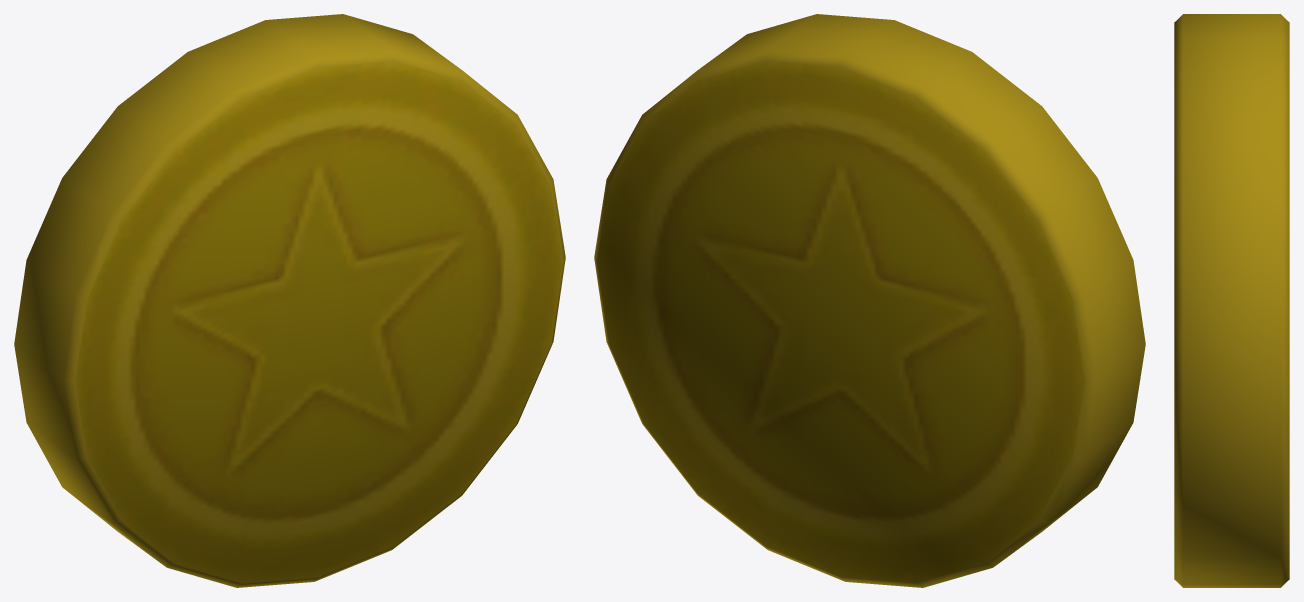
Rendered from coin.glb.
3 views of the same model, side by side, from view 1: azimuth 30°, elevation 25°; view 2: azimuth 150°, elevation 25°; view 3: azimuth 270°, elevation 25° (orthographic).
Parts seen in each view (by area): view 1: DL_ItemBell__m_DL_ItemBell.001; view 2: DL_ItemBell__m_DL_ItemBell.001; view 3: DL_ItemBell__m_DL_ItemBell.001.
Boxes of the visible parts, x1,y1,x2,y2 form: DL_ItemBell__m_DL_ItemBell.001: [14, 14, 565, 587]; DL_ItemBell__m_DL_ItemBell.001: [594, 14, 1145, 587]; DL_ItemBell__m_DL_ItemBell.001: [1174, 14, 1289, 587].
Size of the model in its own units: 0.4732 by 0.4732 by 0.0942.
1 material, 1 textured.
